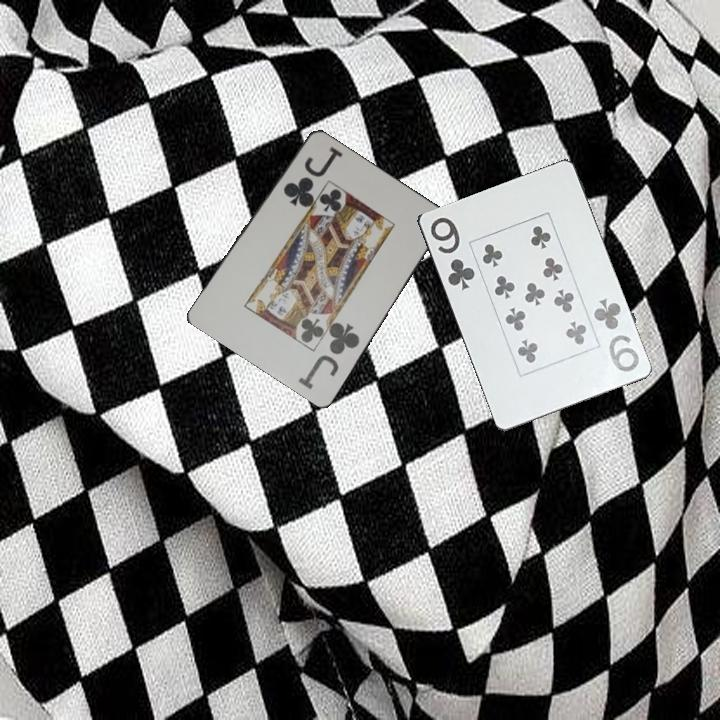9c: (589, 294, 642, 375), (426, 213, 477, 293)
Jc: (294, 318, 363, 392), (280, 142, 342, 209)
